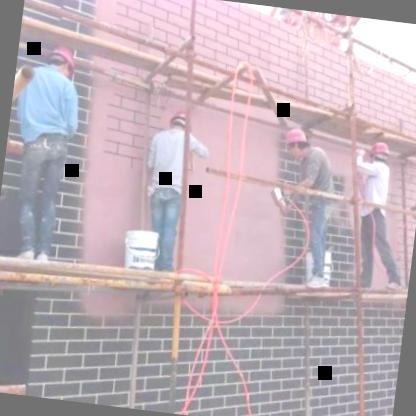helmet: (44, 41, 80, 79), (283, 127, 312, 162), (166, 108, 197, 134), (368, 140, 392, 168)
